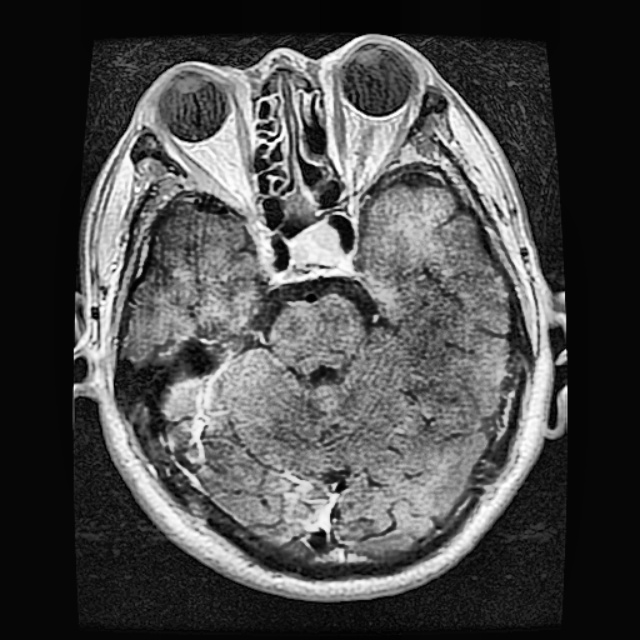Pituitary: (292, 224, 342, 264)
